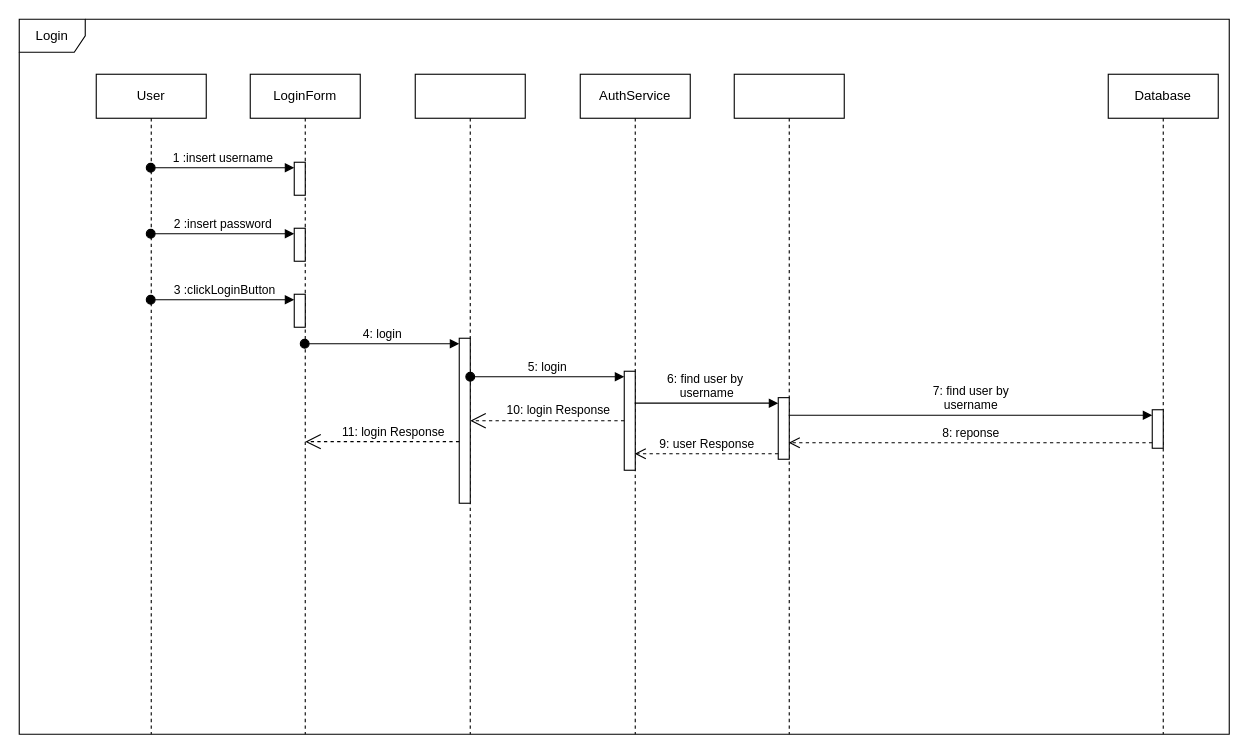
Some shapes in this 1249 by 754 pixel diagram are drawn without their labels. The shapes that lost their labels are listed below. From the top down, each one's box as (x1, y1, x2, y2) in pixels, then its label:
(414, 73, 525, 734): AuthController
(733, 73, 844, 734): UserRepository
